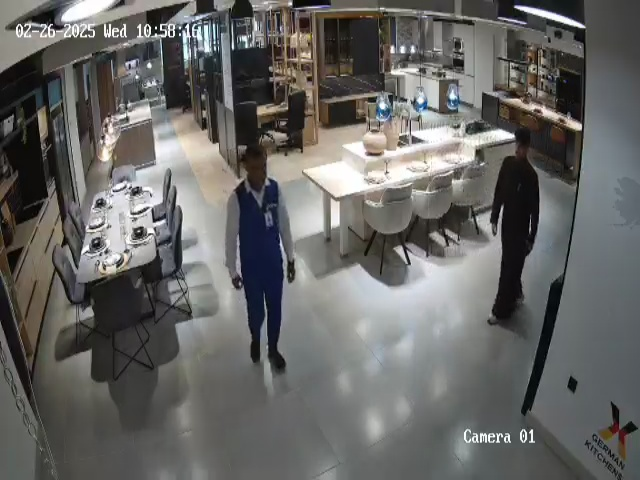employee: (224, 143, 296, 370)
male: (487, 127, 540, 326)
